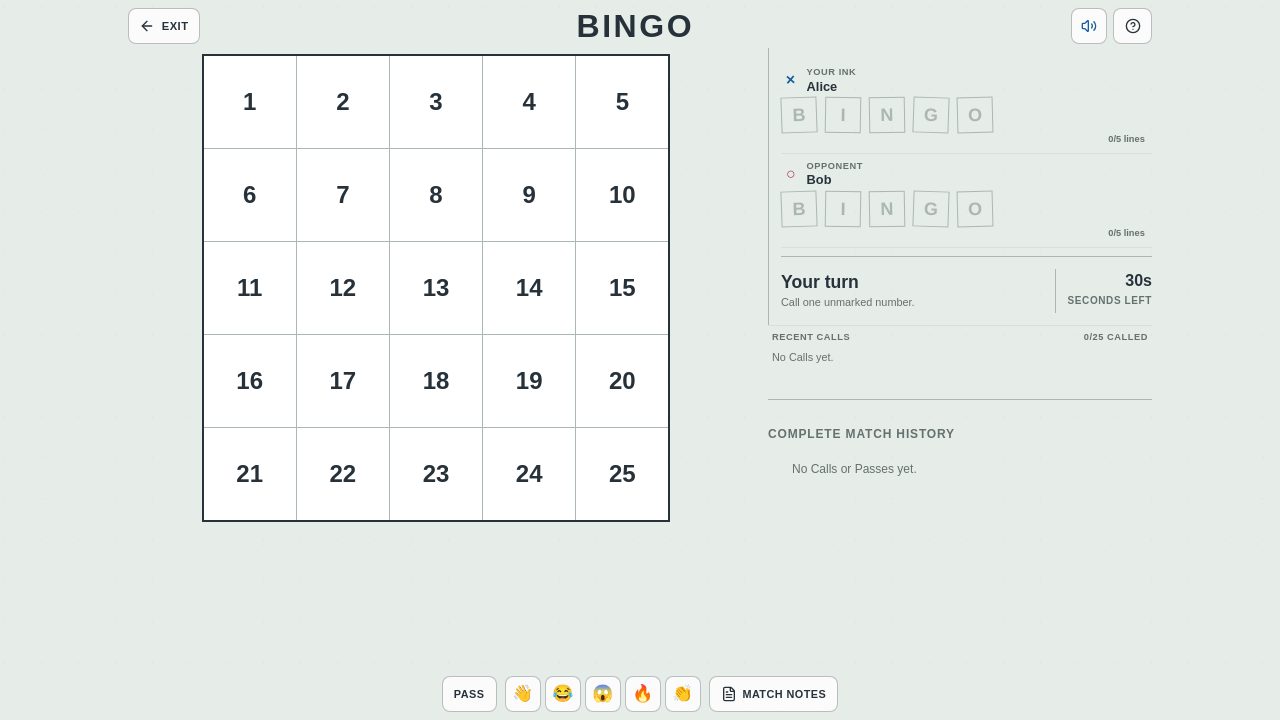
Test: BingoMatchplay › lets the active Player pass the turn
Click the button with aria-label "Pass turn" at (469, 694), box [442,676,497,712]
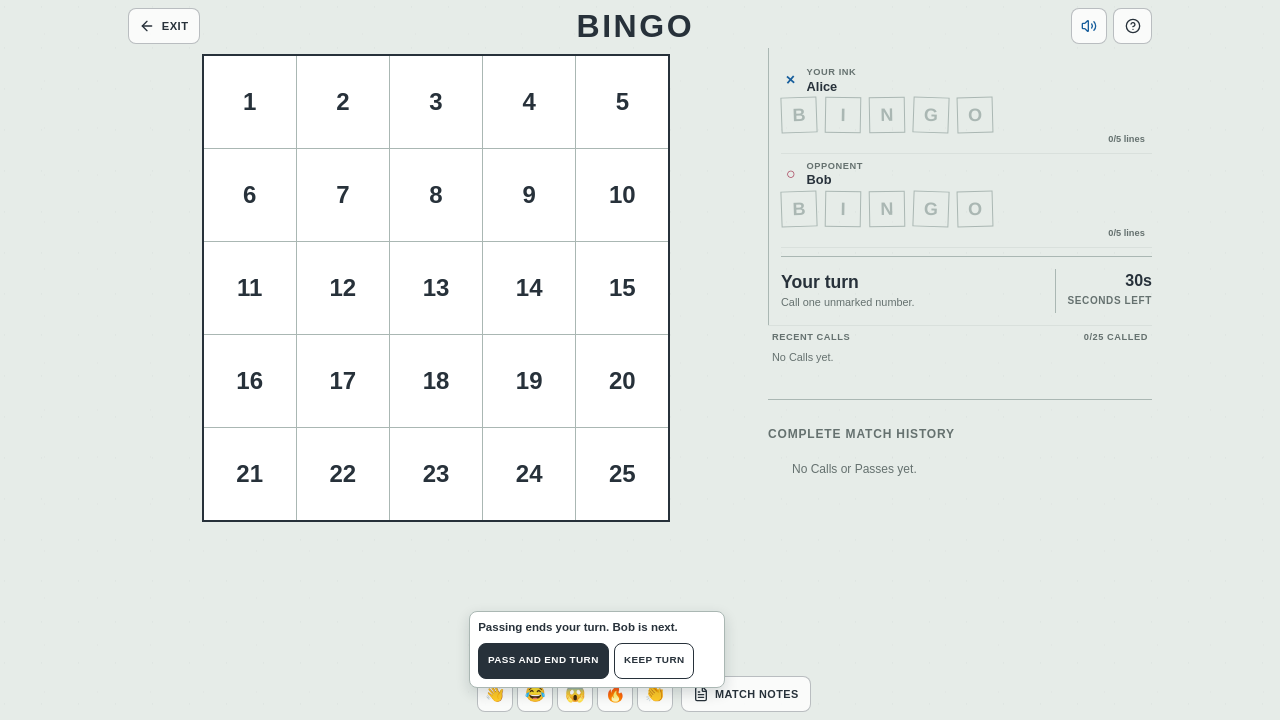
Expected: the text "Passing ends your turn. Bob is next." is shown, [478,622,678,634]
Click the button "Pass and end turn" at (543, 661), box [478,643,608,679]
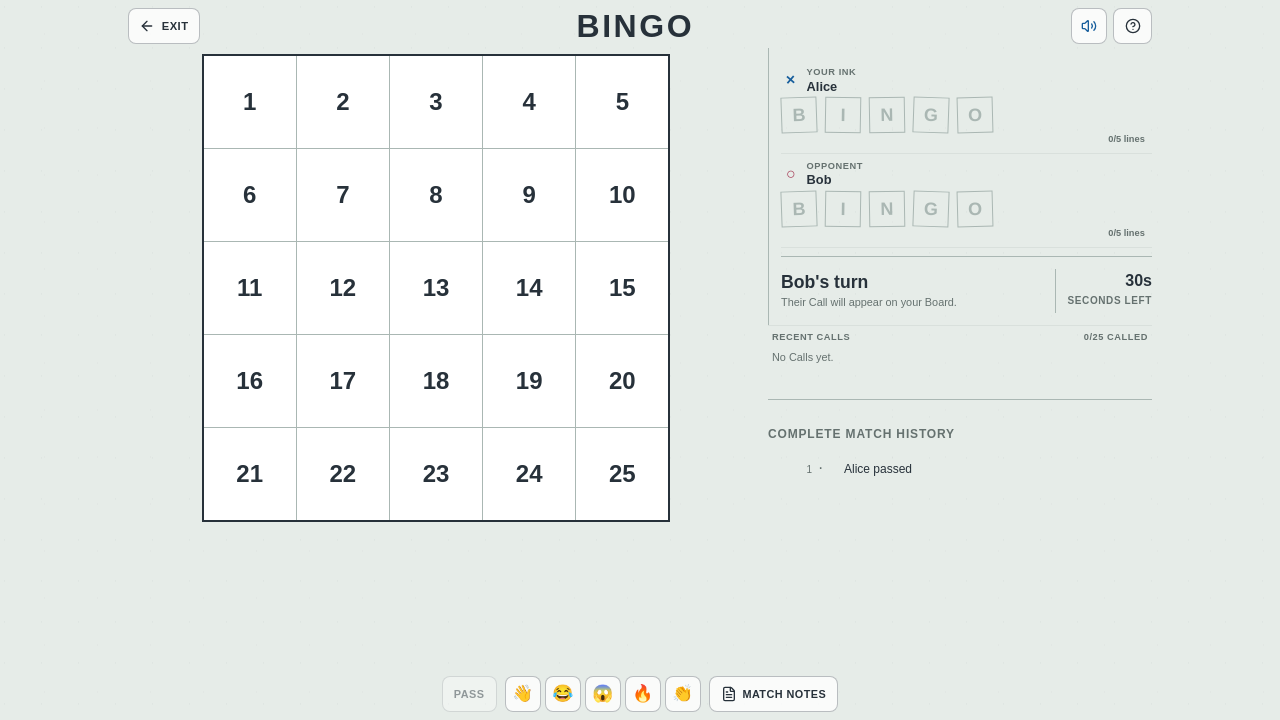
Expected: the text "Bob's turn" is shown, [781,272,868,292]
